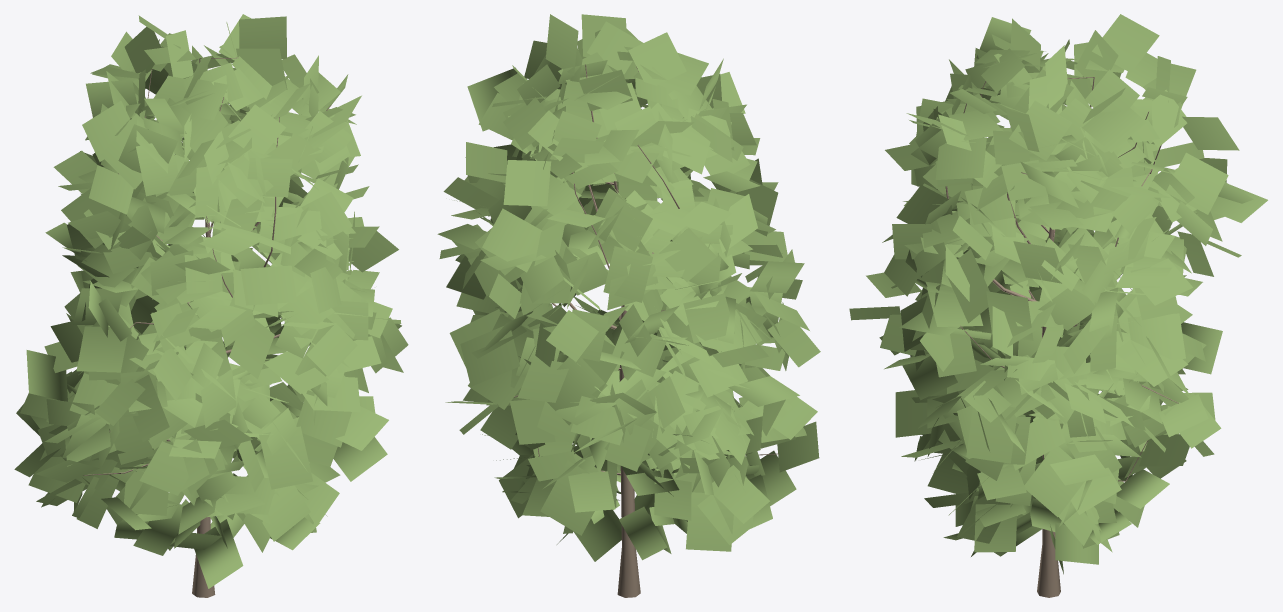
The model's file is Maple_12_young_lod1.glb.
3 views of the same model, side by side, from view 1: azimuth 30°, elevation 25°; view 2: azimuth 150°, elevation 25°; view 3: azimuth 270°, elevation 25° (orthographic). The views are drawn at different scales.
Visible parts, largest first — view 1: Maple_12_young_lod1; view 2: Maple_12_young_lod1; view 3: Maple_12_young_lod1.
Boxes of the visible parts, x1,y1,x2,y2 form: Maple_12_young_lod1: (14,14,408,597); Maple_12_young_lod1: (437,14,820,597); Maple_12_young_lod1: (849,14,1267,597).
Bounding box in the file's own units: 7.45 × 11.05 × 7.36.
